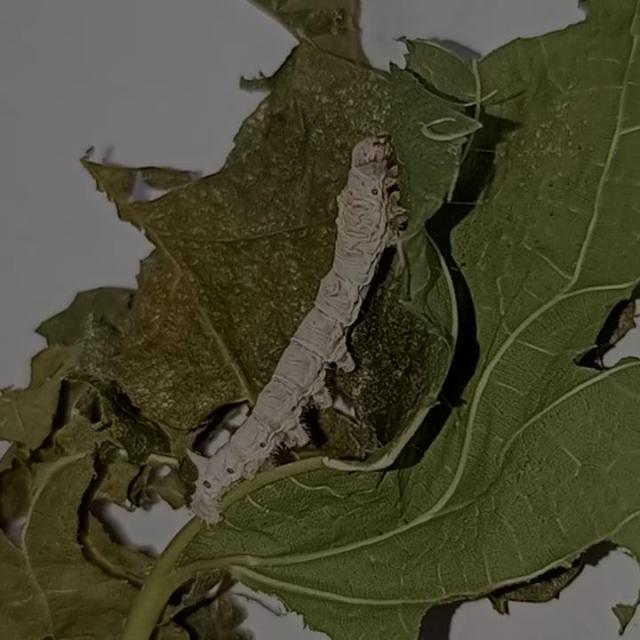Healthy: (160, 102, 424, 548)
